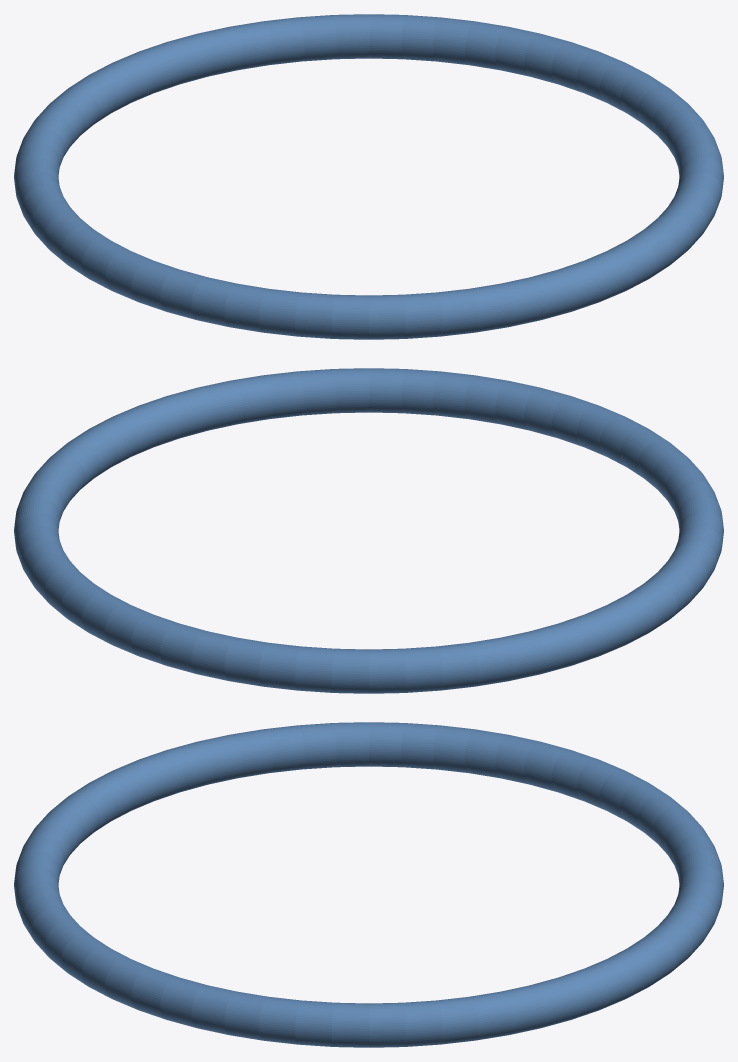
Rendered from reticle.glb.
3 renders of one model, top to bottom at view 1: azimuth 30°, elevation 25°; view 2: azimuth 150°, elevation 25°; view 3: azimuth 270°, elevation 25°, orthographic.
Visible parts, largest first — view 1: Torus; view 2: Torus; view 3: Torus.
Part boxes in pixels (x1,y1,x2,y2): Torus: (14,14,723,339); Torus: (14,368,723,693); Torus: (14,722,723,1047).
Size of the model in its own units: 0.1787 by 0.0112 by 0.1787.
